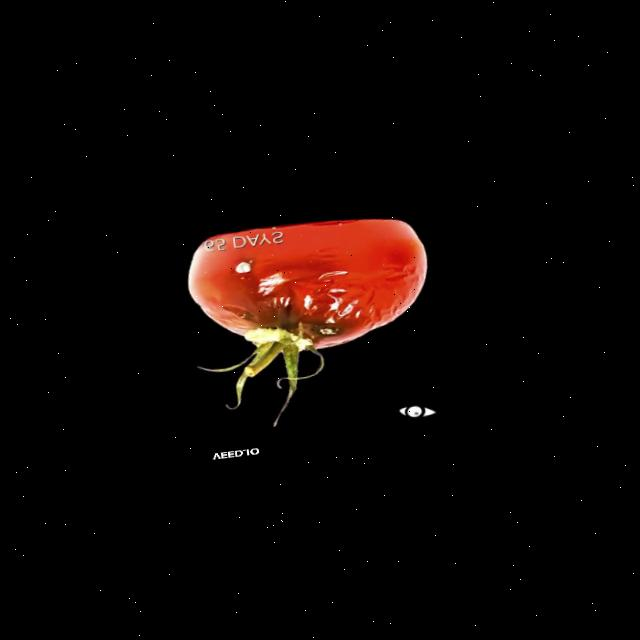tomato: (180, 202, 444, 400)
